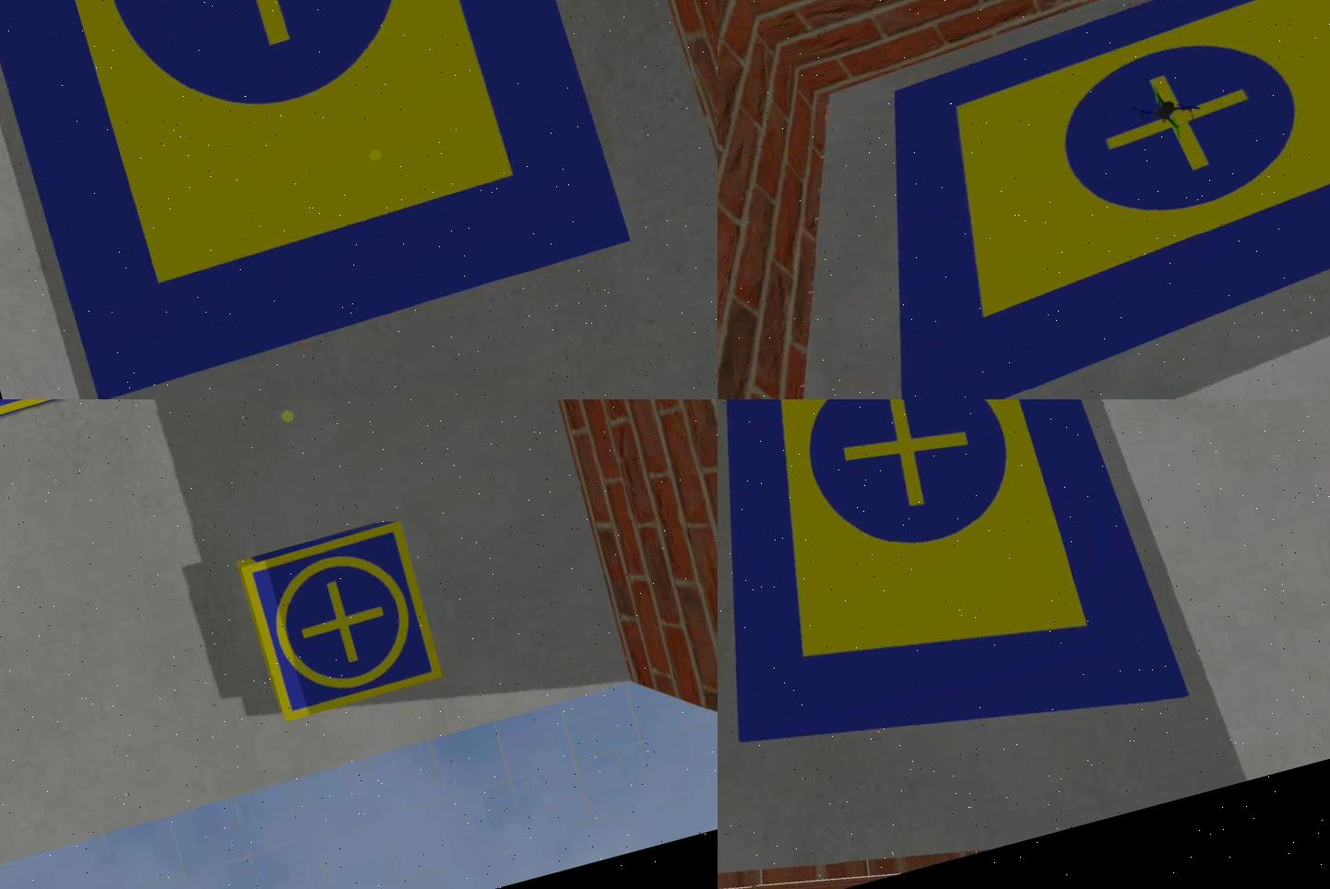large_base: (1, 1, 637, 400), (809, 1, 1330, 400), (718, 400, 1193, 814)
small_base: (239, 518, 449, 726)
